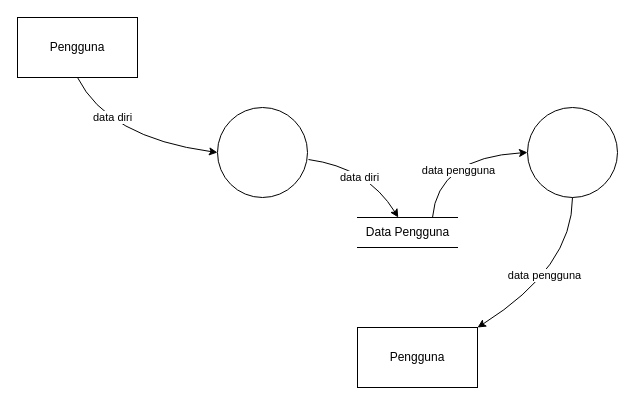
This 635x405 diagram has some shape labels left out. The box of each missing label's shape, as (x1, y1, x2, y2) in pixels:
1.0 Memasukkan data diri: (216, 106, 308, 198)
2.0 Menampilkan data pengguna: (526, 106, 618, 198)
